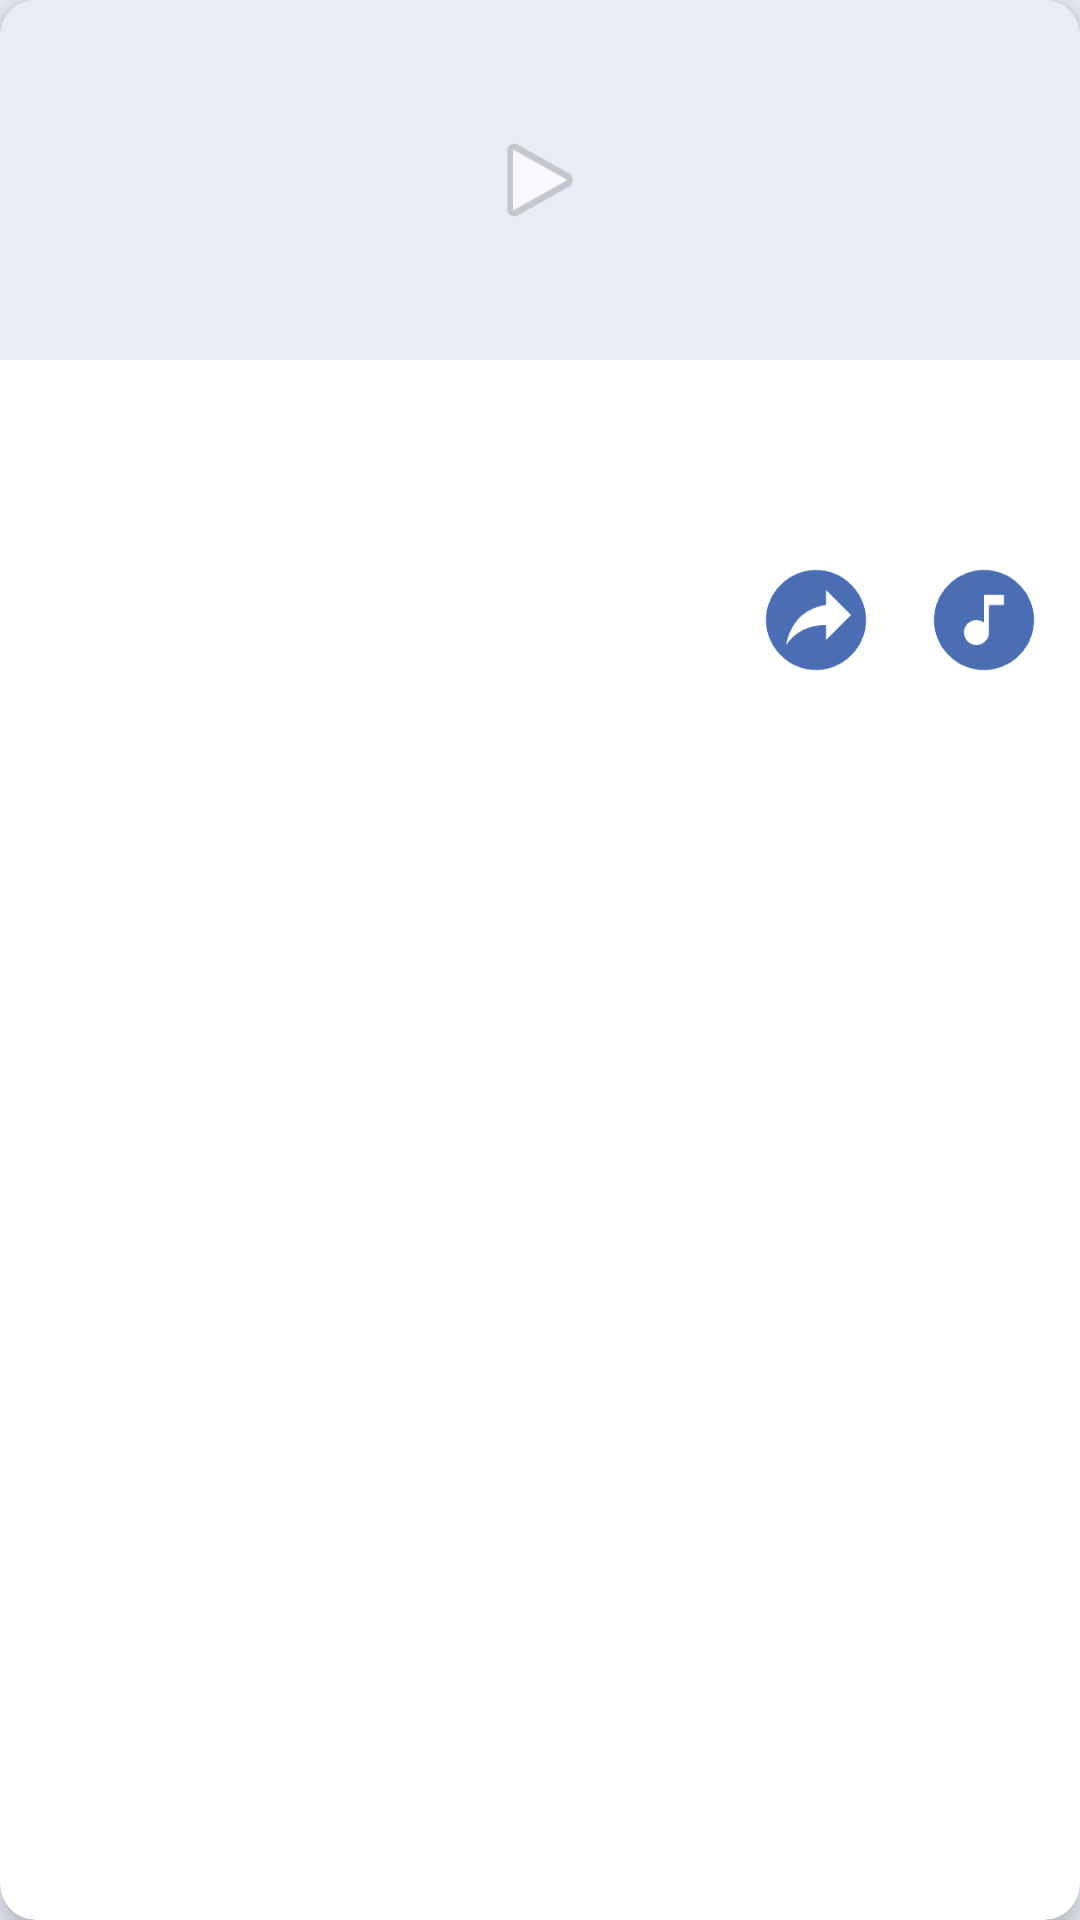

Locate icon controls on the screen. Image size 1080px x 1920px, boxes as (x1, y1, x2, y2).
music: (933, 569, 1035, 671)
play: (507, 144, 573, 216)
share: (765, 569, 867, 671)
